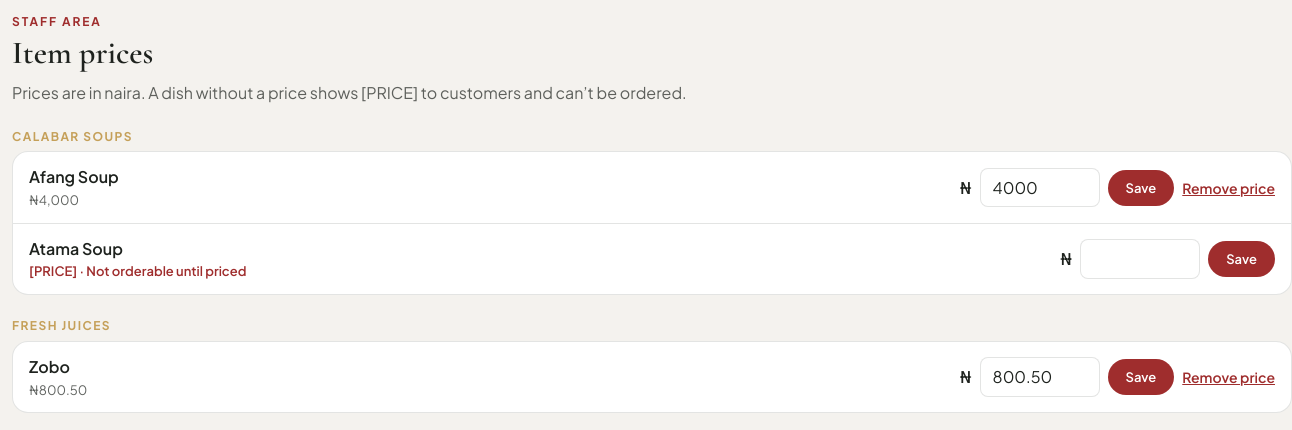
Test: AdminPricesView › saves a new price in kobo and confirms it
Replace the text in the field named "Price of Afang Soup in naira" with "4,500": [1040, 188] box [980,168,1100,207]
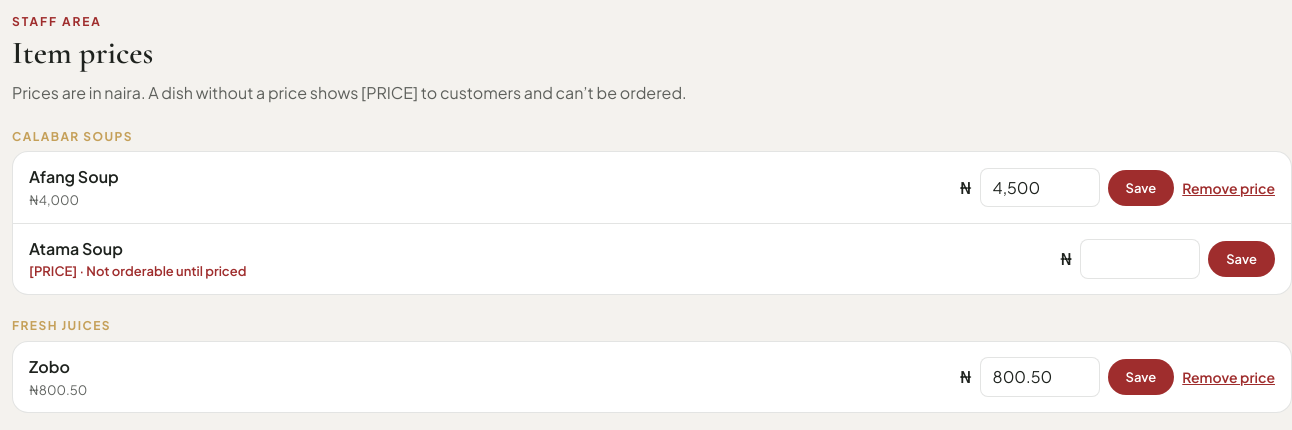
Submit the form "Afang Soup ₦4,000 ₦ Save Remove price", box [29,164,1275,211]
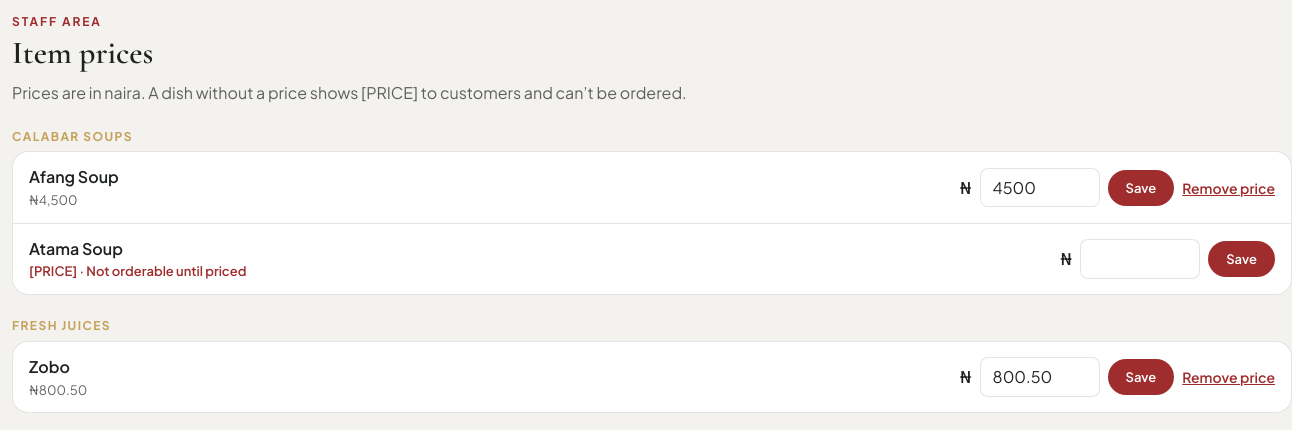
Result: the list item with test id "dish" shows "₦4,500" at [29,192,78,208]
